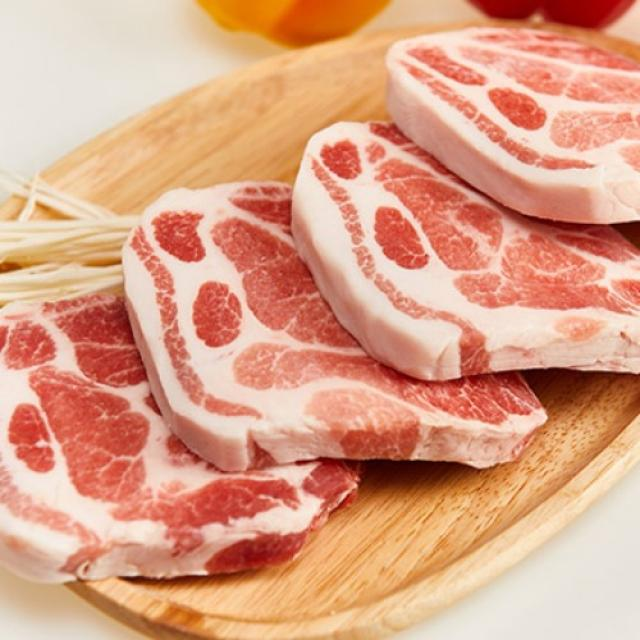pork: (8, 52, 640, 561)
